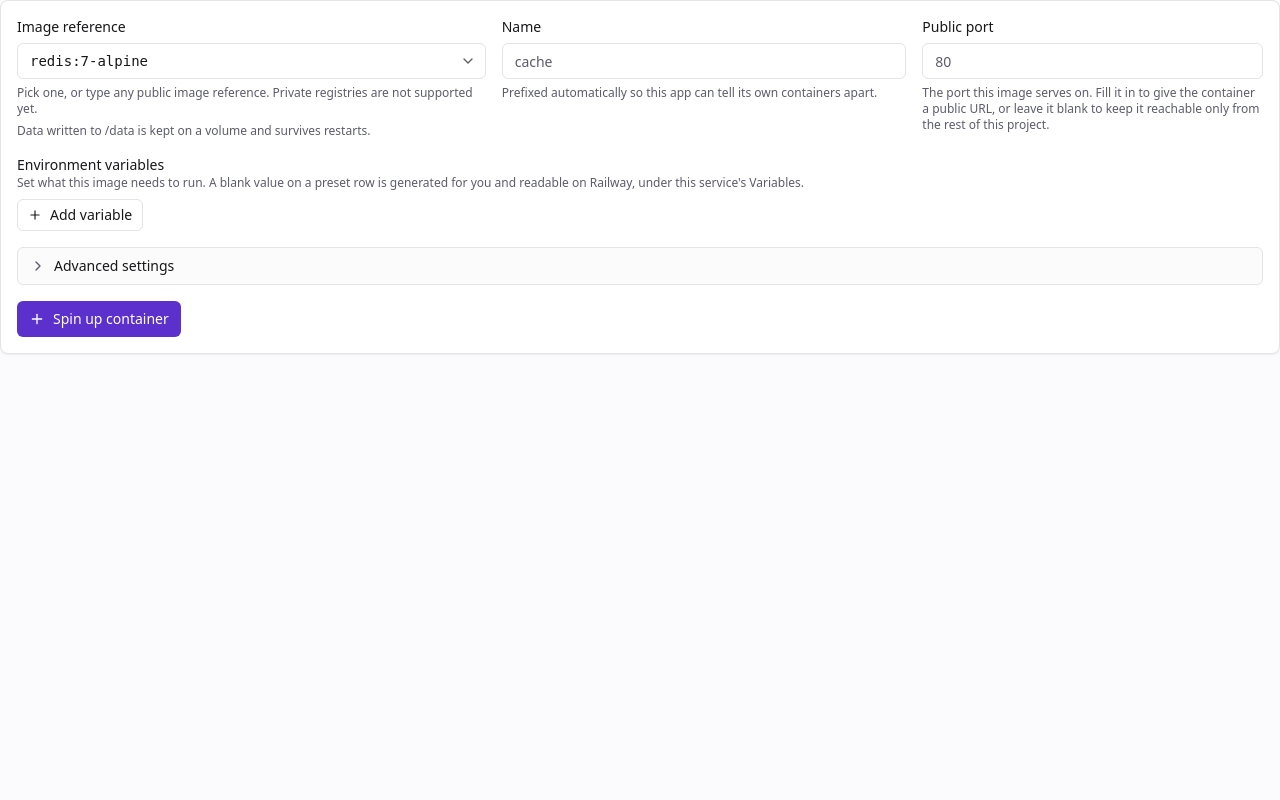
Test case: SpinUpForm › accepts a hand-typed image over the preset
The width and height of the screenshot is (1280, 800).
Step 1. Type "ghcr.io/owner/app:1.0.0" into the dropdown labelled "Image reference" → {"x": 251, "y": 61}, box [17, 43, 486, 79]
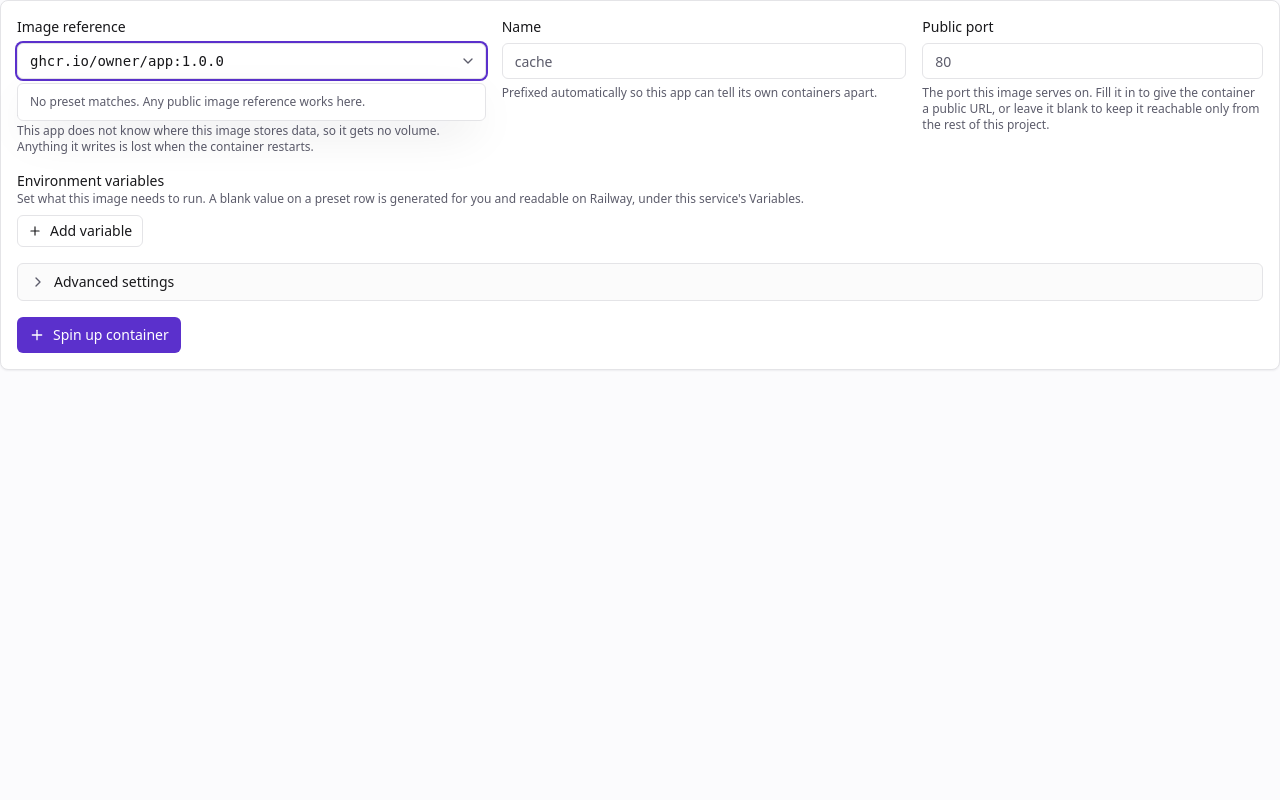
Result: the text "No preset matches. Any public image reference works here." is shown at [30, 93, 365, 110]
